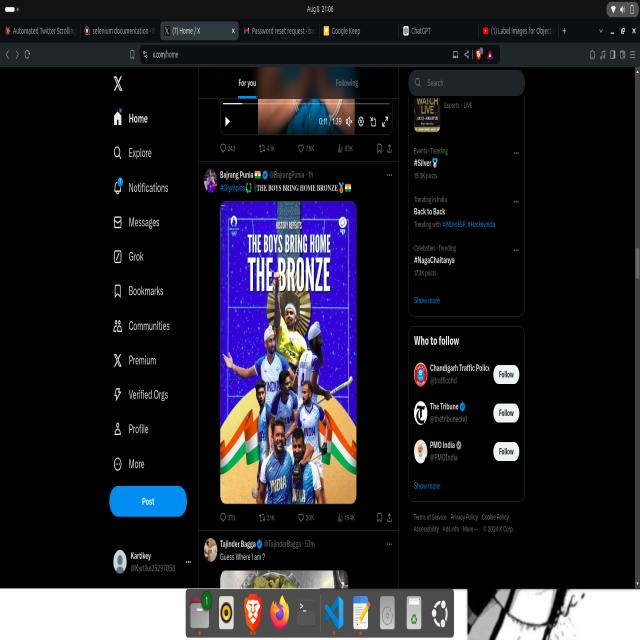Tweet-Comment_Box-: (195, 158, 403, 537)
